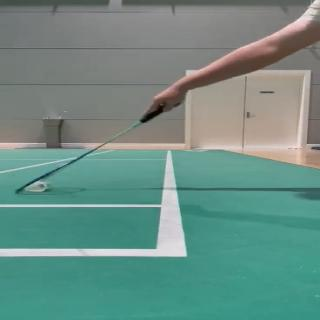Shuttle: (24, 180, 48, 192)
